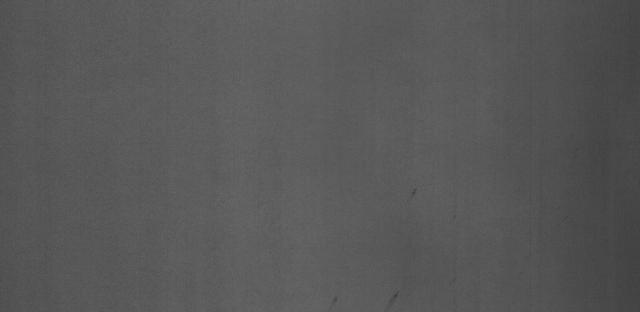water_spot: (400, 179, 434, 203), (384, 289, 409, 309), (325, 295, 344, 309)
